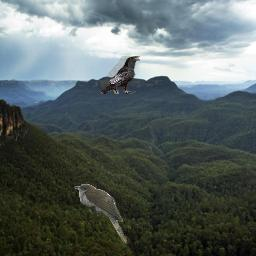Crow: (100, 56, 140, 94)
Cuckoo: (74, 184, 127, 245)
